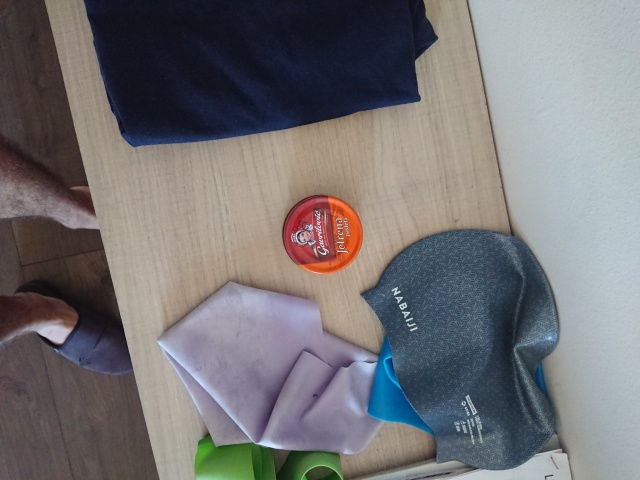Gavrilovic Pork Liver Pate 100g: (279, 192, 365, 276)
